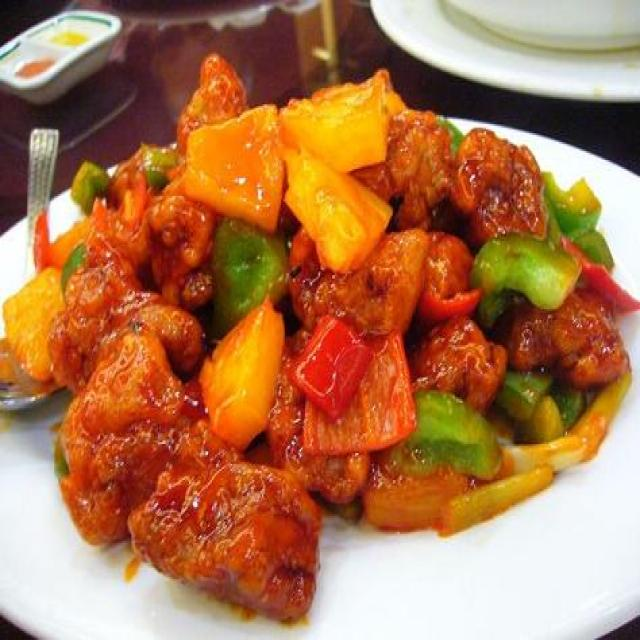猪肉菜式: (0, 52, 640, 626)
